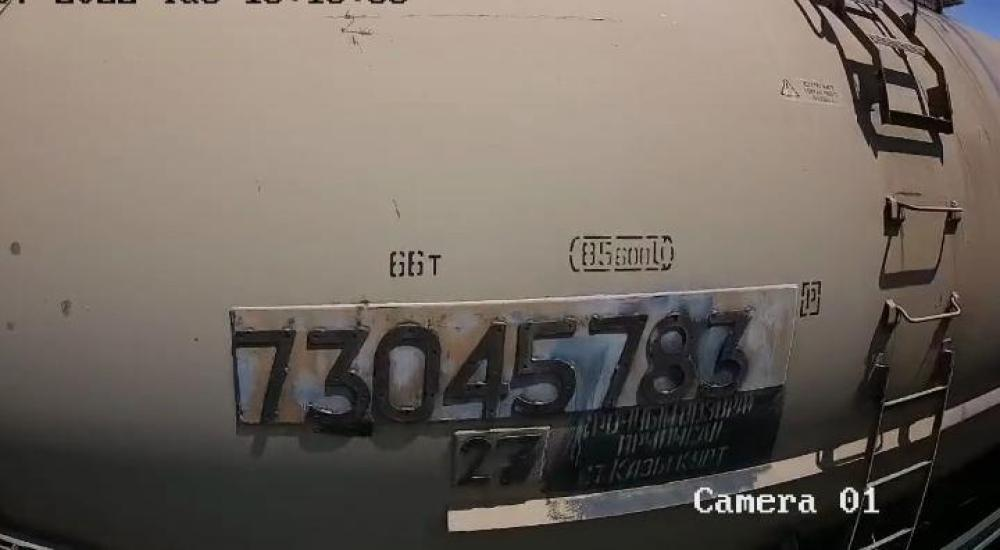Wagon-number: (231, 305, 764, 427)
